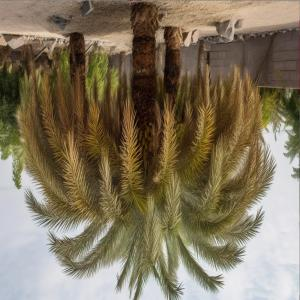palm tree: (13, 3, 276, 298)
